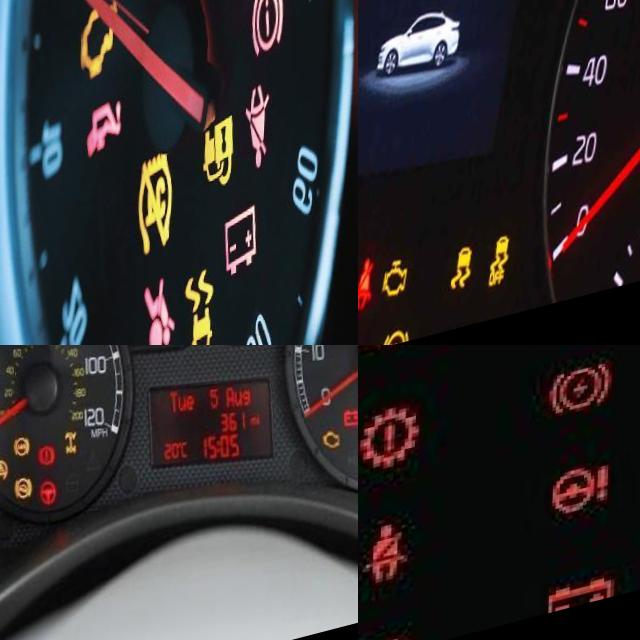Electronic Power Steering: (551, 475, 616, 537)
Seat Belt: (369, 522, 413, 590), (245, 106, 276, 196), (358, 269, 378, 322)
